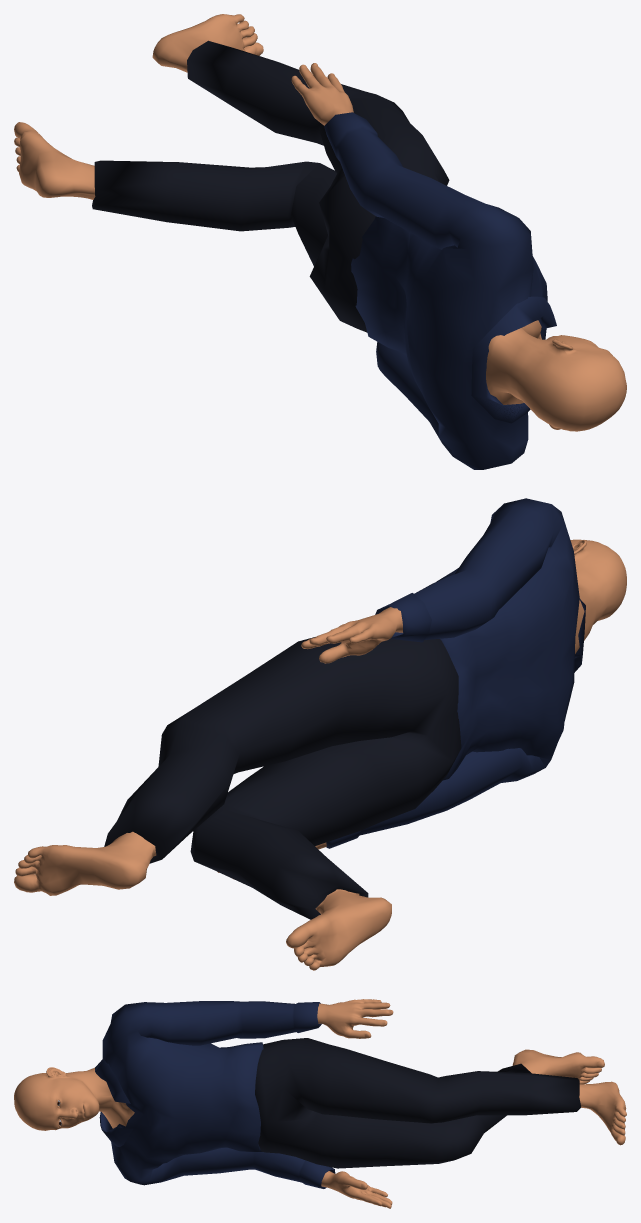
Rendered from walk.obj.
The picture shows the model from 3 angles, top to bottom: view 1: azimuth 30°, elevation 25°; view 2: azimuth 150°, elevation 25°; view 3: azimuth 270°, elevation 25°; orthographic projection. The views are drawn at different scales.
Size of the model in its own units: 0.6223 by 0.5386 by 1.68.
